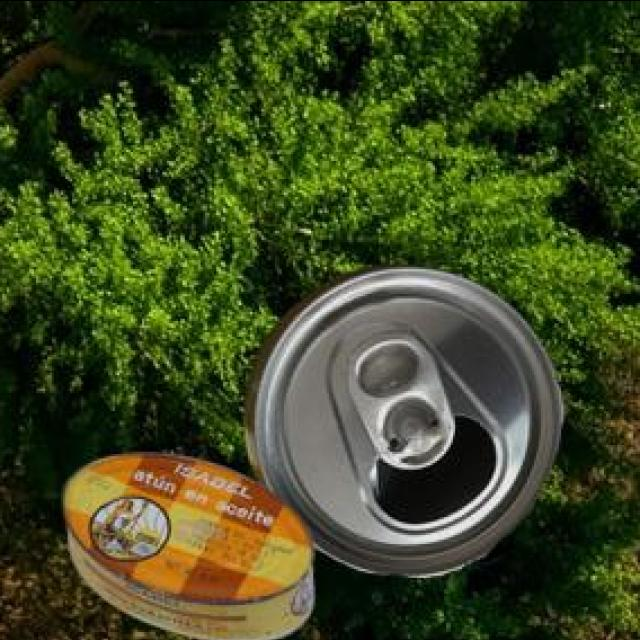logam: (249, 260, 567, 574), (66, 450, 317, 639)
